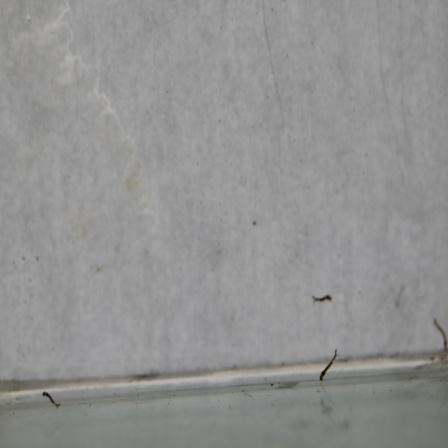Jentik-Nyamuk: (317, 345, 343, 382), (39, 389, 63, 411)
